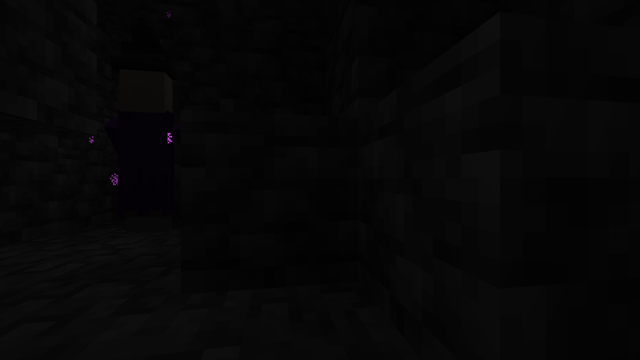sorcieres: (109, 59, 182, 235)
